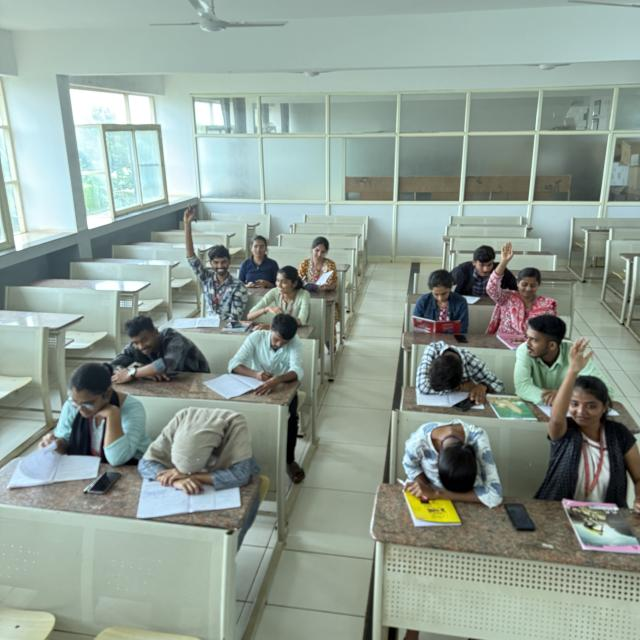Hand Rising: (544, 330, 637, 497), (173, 197, 246, 321), (486, 238, 554, 338)
Reading: (22, 359, 150, 484), (410, 268, 477, 339), (249, 265, 315, 327), (294, 234, 345, 297)
Sleeping: (133, 398, 260, 518), (396, 411, 506, 514), (99, 313, 218, 391), (408, 333, 502, 410)
Using Phone: (236, 231, 283, 293)
Writing: (220, 308, 314, 392)
